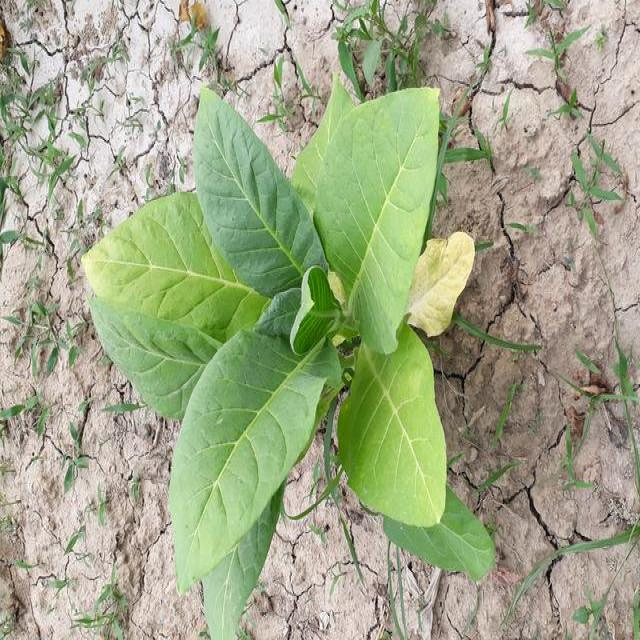crop: (79, 84, 494, 630)
